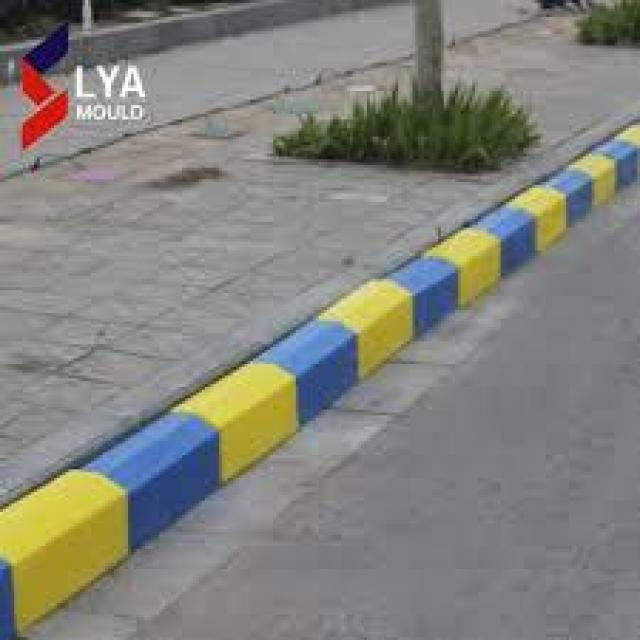bump: (0, 280, 430, 606), (363, 118, 639, 354)
